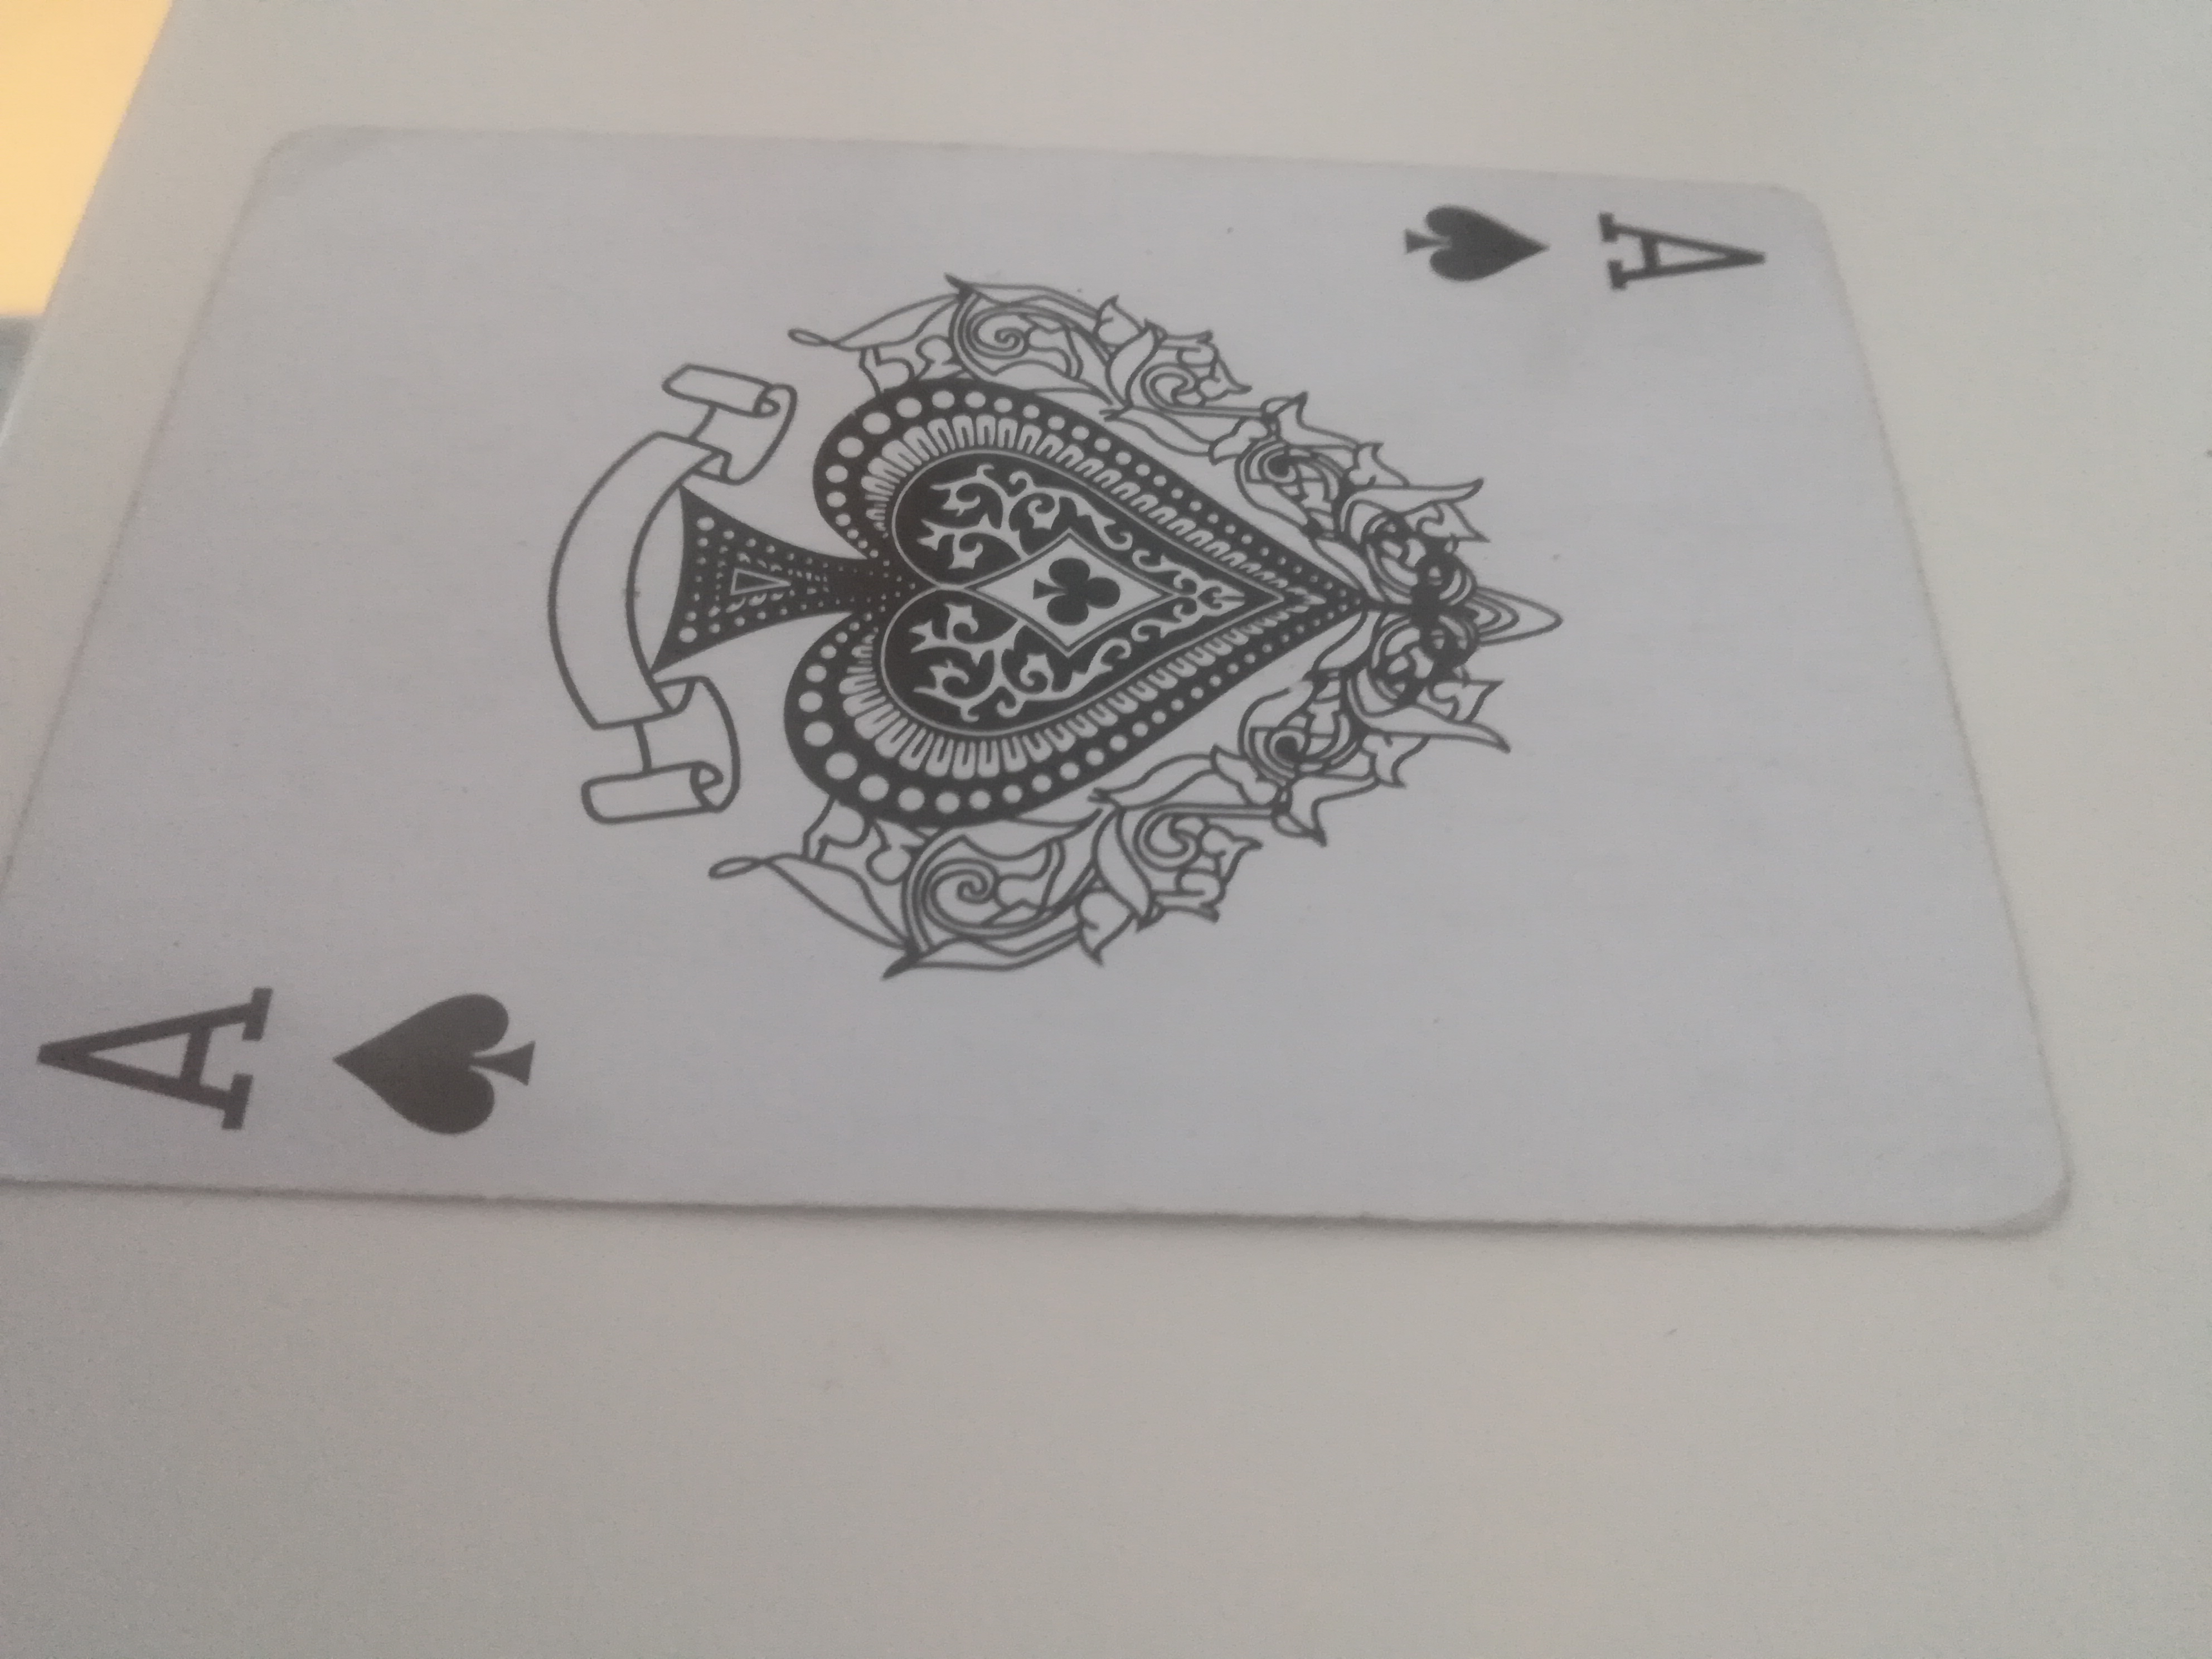AS: (31, 110, 2097, 1256)
